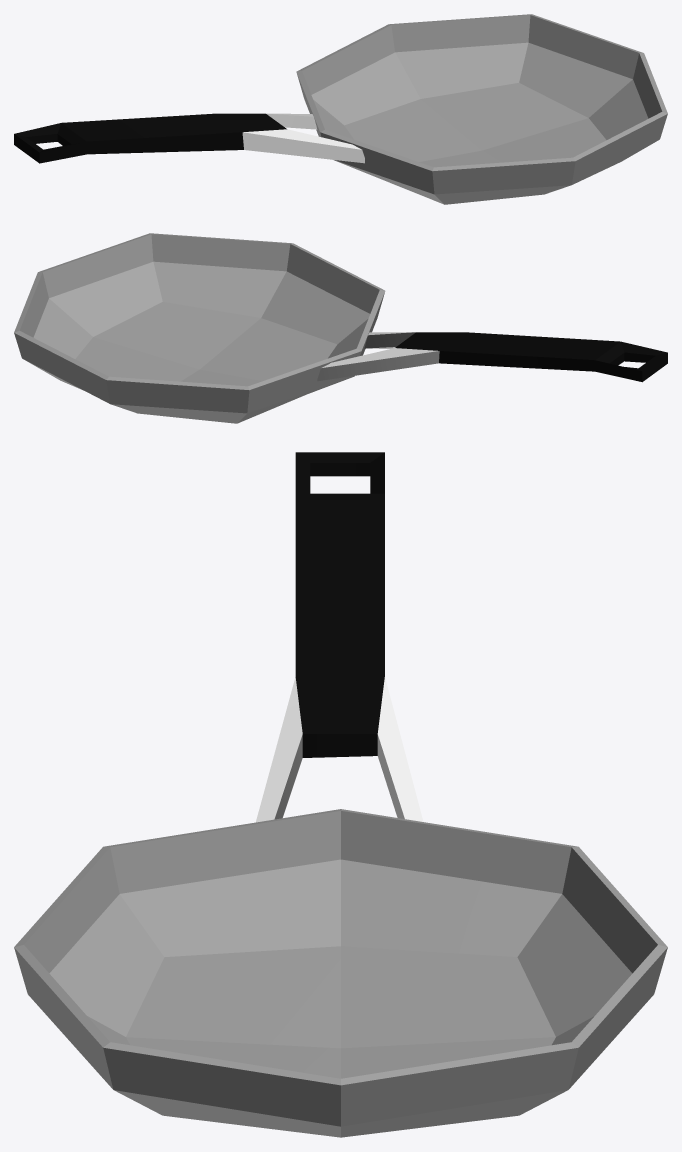
The model's file is FryingPan#2Model.fbx.
The picture shows the model from 3 angles, top to bottom: view 1: azimuth 30°, elevation 25°; view 2: azimuth 150°, elevation 25°; view 3: azimuth 270°, elevation 25°; orthographic projection. The views are drawn at different scales.
Visible parts, largest first — view 1: FryingPan#2Model; view 2: FryingPan#2Model; view 3: FryingPan#2Model.
Part boxes in pixels (<box>): FryingPan#2Model: <box>14,14,667,204</box>; FryingPan#2Model: <box>14,233,667,423</box>; FryingPan#2Model: <box>14,452,667,1137</box>.
Bounding box in the file's own units: 155 × 29.69 × 81.4.
